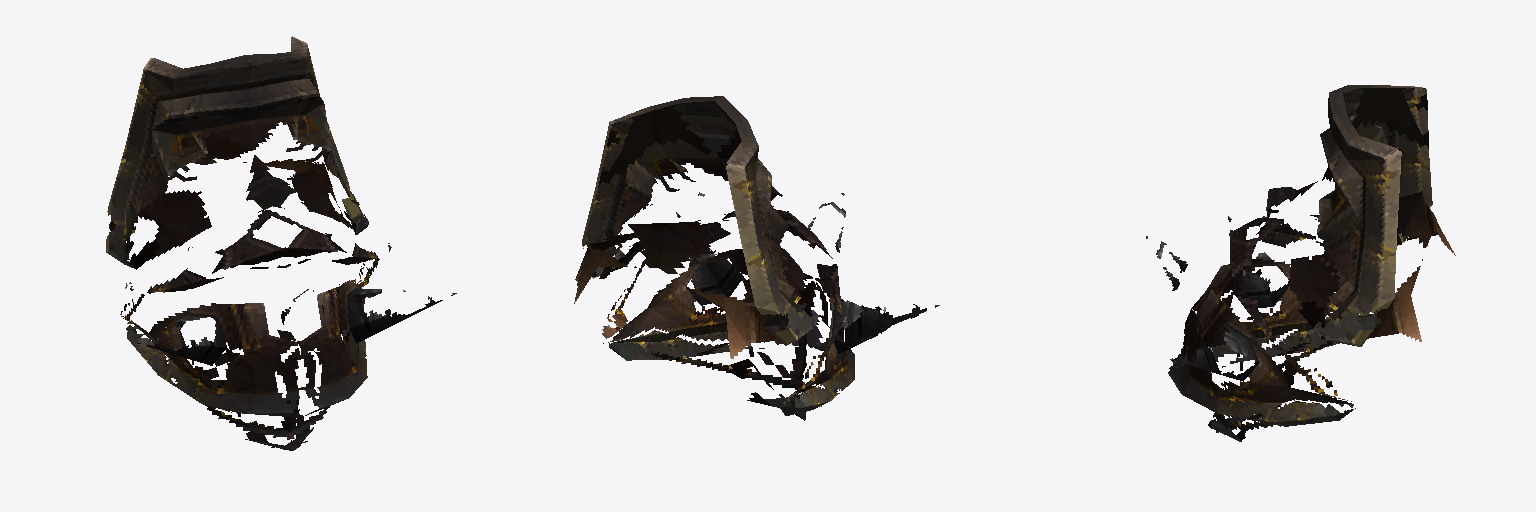
3 views of the same model, side by side, from view 1: azimuth 30°, elevation 25°; view 2: azimuth 150°, elevation 25°; view 3: azimuth 270°, elevation 25° (orthographic).
Parts seen in each view (by area): view 1: Geoset_0; view 2: Geoset_0; view 3: Geoset_0.
Boxes of the visible parts, x1,y1,x2,y2 form: Geoset_0: [106, 36, 456, 450]; Geoset_0: [574, 96, 939, 420]; Geoset_0: [1146, 85, 1455, 441].
Bounding box in the file's own units: 0.5476 × 0.614 × 0.5722.
2 materials, 1 textured.